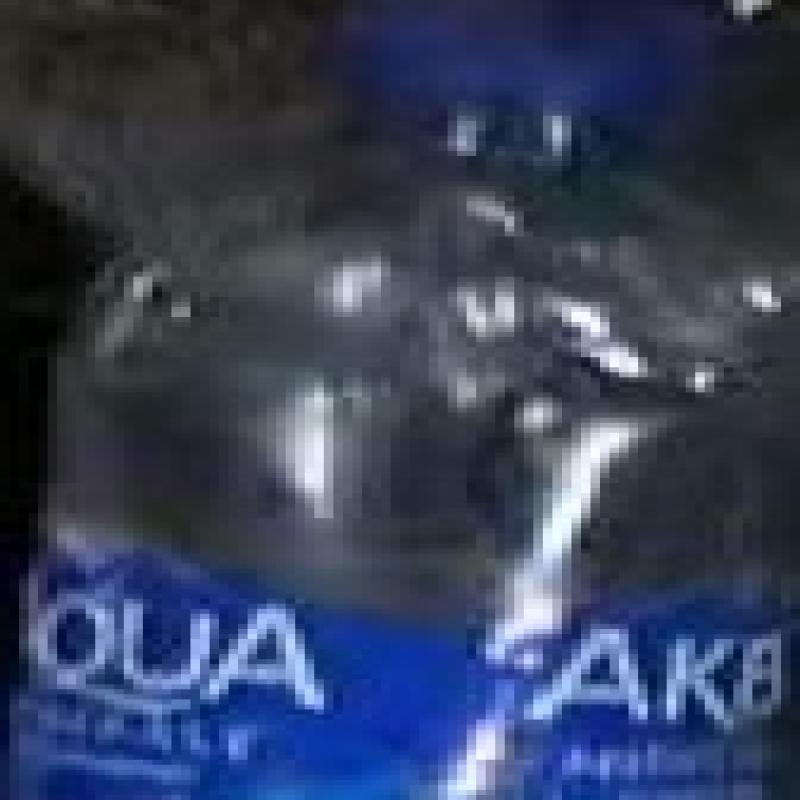botella: (42, 2, 800, 800)
